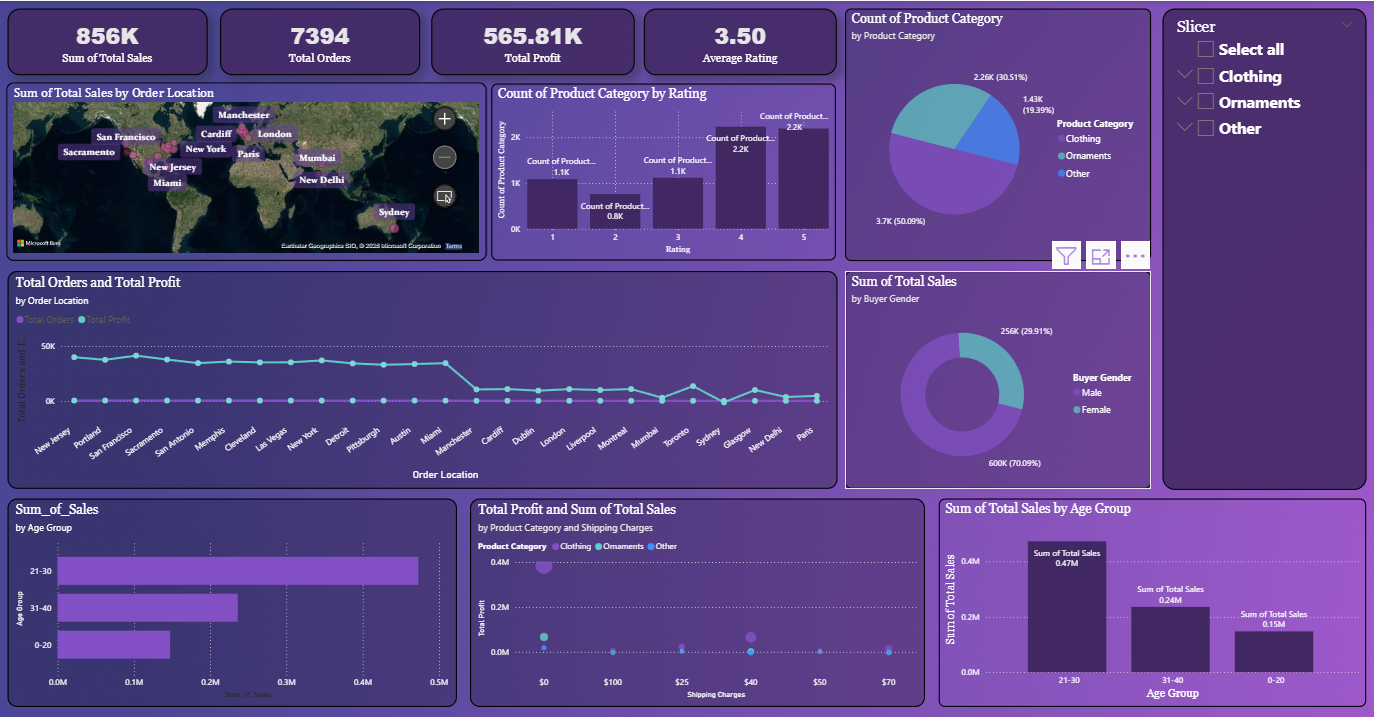

What the dashboard file says about the page in this screenshot:
{"tool":"powerbi","page":{"name":"Page 1","canvas":[1996,1039],"ordinal":0},"visuals":[{"type":"card","fields":{"Values":["Sum(SalesData.Total Sales)"]},"box":[10,10,290,96.7],"z":0},{"type":"card","fields":{"Values":["SalesData.Total Orders"]},"box":[320,10,290,96.7],"z":1000},{"type":"card","fields":{"Values":["SalesData.Total Profit"]},"box":[625,10,295,96.7],"z":2000},{"type":"card","fields":{"Values":["SalesData.Average Rating"]},"box":[933.3,10,280,96.7],"z":3000},{"type":"map","fields":{"Category":["SalesData.Order Location"],"Size":["Sum(SalesData.Total Sales)"]},"box":[9.8,117.4,697,259.2],"z":4000},{"type":"pieChart","fields":{"Category":["SalesData.Product Category"],"Y":["CountNonNull(SalesData.Product Category)"]},"box":[1226,10,444,366],"z":5000},{"type":"lineChart","fields":{"Category":["SalesData.Order Location"],"Y":["SalesData.Total Orders","SalesData.Total Profit"]},"box":[10,392,1204,316],"z":6000},{"type":"columnChart","fields":{"Category":["SalesData.Rating"],"Y":["CountNonNull(SalesData.Product Category)"]},"box":[713.3,120,500,256.7],"z":7000},{"type":"donutChart","fields":{"Y":["Sum(SalesData.Total Sales)"],"Category":["SalesData.Buyer Gender"]},"box":[1226,392,444,316],"z":8000},{"type":"columnChart","fields":{"Category":["SalesData.Age Group"],"Y":["Sum(SalesData.Total Sales)"]},"box":[1362,722,620,302],"z":9000},{"type":"clusteredBarChart","fields":{"Category":["SalesData.Age Group"],"Y":["SalesData.Sum_of_Sales"]},"box":[10,722,652,302],"z":10000},{"type":"scatterChart","fields":{"X":["SalesData.Shipping Charges"],"Y":["SalesData.Total Profit"],"Series":["SalesData.Product Category"],"Size":["Sum(SalesData.Total Sales)"]},"box":[682,722,660,302],"z":11000},{"type":"slicer","fields":{"Values":["SalesData.Product Category","SalesData.Buyer Gender","SalesData.Order Location","SalesData.Rating","SalesData.International Shipping","SalesData.Age Group"]},"box":[1686,10,296,698],"z":12000}]}

Visuals, with their boxes in screenshot pixels (x1, y1, x2, y2), scaled from the page's 1996x1039 canvas onto the 1374x717 screenshot:
card - Sum(SalesData.Total Sales): {"x1": 7, "y1": 7, "x2": 207, "y2": 74}
card - SalesData.Total Orders: {"x1": 220, "y1": 7, "x2": 420, "y2": 74}
card - SalesData.Total Profit: {"x1": 430, "y1": 7, "x2": 633, "y2": 74}
card - SalesData.Average Rating: {"x1": 642, "y1": 7, "x2": 835, "y2": 74}
map - SalesData.Order Location x Sum(SalesData.Total Sales): {"x1": 7, "y1": 81, "x2": 487, "y2": 260}
pieChart - SalesData.Product Category x CountNonNull(SalesData.Product Category): {"x1": 844, "y1": 7, "x2": 1150, "y2": 259}
lineChart - SalesData.Order Location x SalesData.Total Orders: {"x1": 7, "y1": 271, "x2": 836, "y2": 489}
columnChart - SalesData.Rating x CountNonNull(SalesData.Product Category): {"x1": 491, "y1": 83, "x2": 835, "y2": 260}
donutChart - Sum(SalesData.Total Sales) x SalesData.Buyer Gender: {"x1": 844, "y1": 271, "x2": 1150, "y2": 489}
columnChart - SalesData.Age Group x Sum(SalesData.Total Sales): {"x1": 938, "y1": 498, "x2": 1364, "y2": 707}
clusteredBarChart - SalesData.Age Group x SalesData.Sum_of_Sales: {"x1": 7, "y1": 498, "x2": 456, "y2": 707}
scatterChart - SalesData.Shipping Charges x SalesData.Total Profit: {"x1": 469, "y1": 498, "x2": 924, "y2": 707}
slicer - SalesData.Product Category x SalesData.Buyer Gender: {"x1": 1161, "y1": 7, "x2": 1364, "y2": 489}
